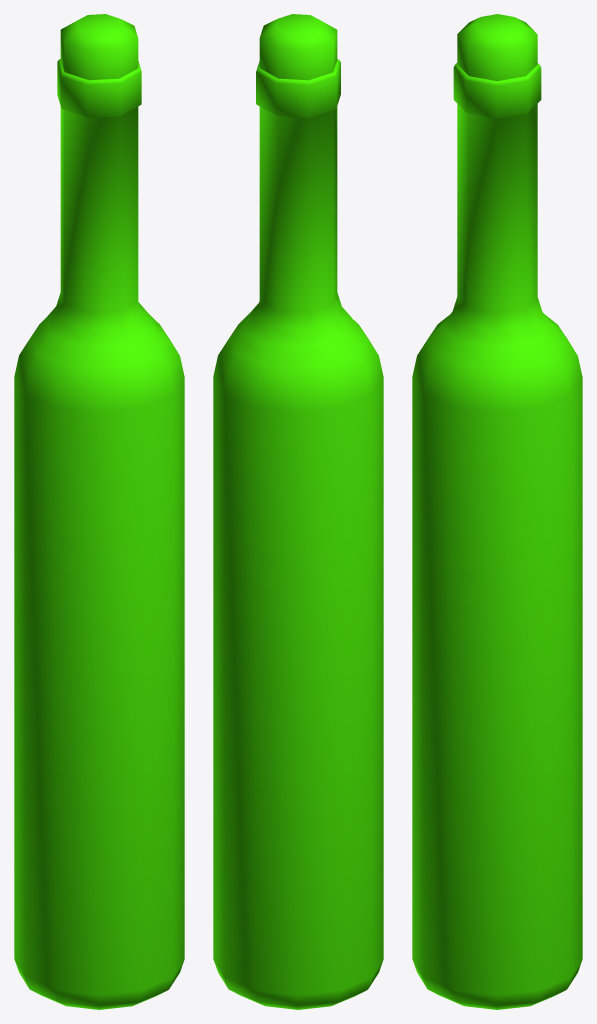
Rendered from 20_limoncello.gltf.
3 renders of one model, left to right at view 1: azimuth 30°, elevation 25°; view 2: azimuth 150°, elevation 25°; view 3: azimuth 270°, elevation 25°, orthographic.
Visible parts, largest first — view 1: Crema_di_Limoncino_Atlas_0; view 2: Crema_di_Limoncino_Atlas_0; view 3: Crema_di_Limoncino_Atlas_0.
Boxes of the visible parts, x1,y1,x2,y2 form: Crema_di_Limoncino_Atlas_0: (14,14,184,1009); Crema_di_Limoncino_Atlas_0: (213,14,383,1009); Crema_di_Limoncino_Atlas_0: (412,14,582,1009).
Bounding box in the file's own units: 5.8 × 36.01 × 5.8.
1 material, 1 textured.
